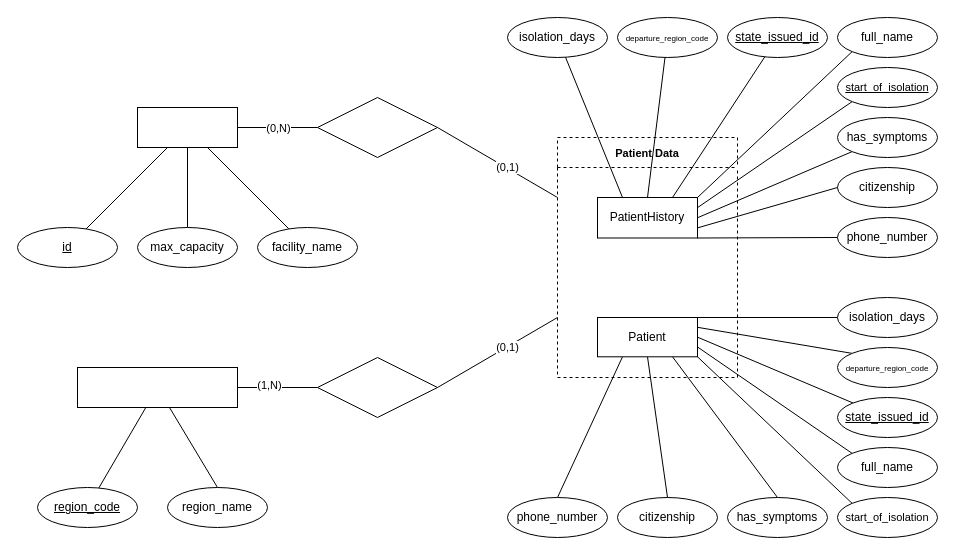
Some shapes in this 955 by 555 pixel diagram are drawn without their labels. Here are the shapes that lost their labels. From the top down, the centre of each, then its label:
point 187,127: Hospital
point 377,127: hospitalized_in
point 157,387: CoronaHotspotRegion
point 377,387: comes_from
